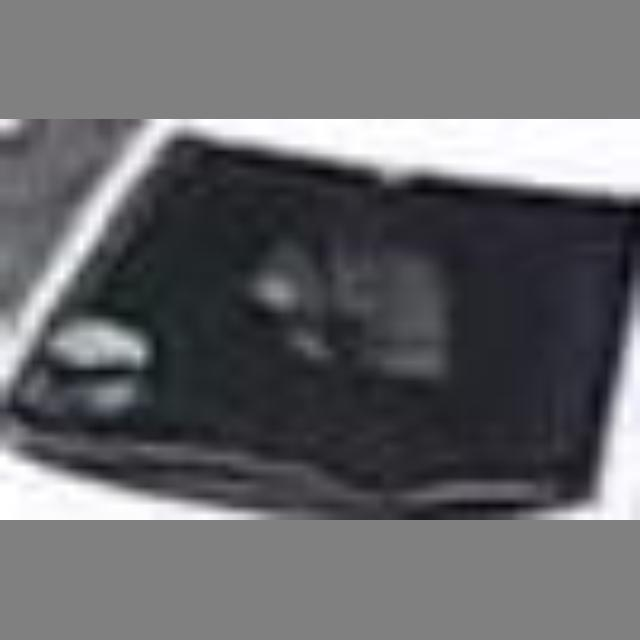pakai: (220, 215, 459, 386)
